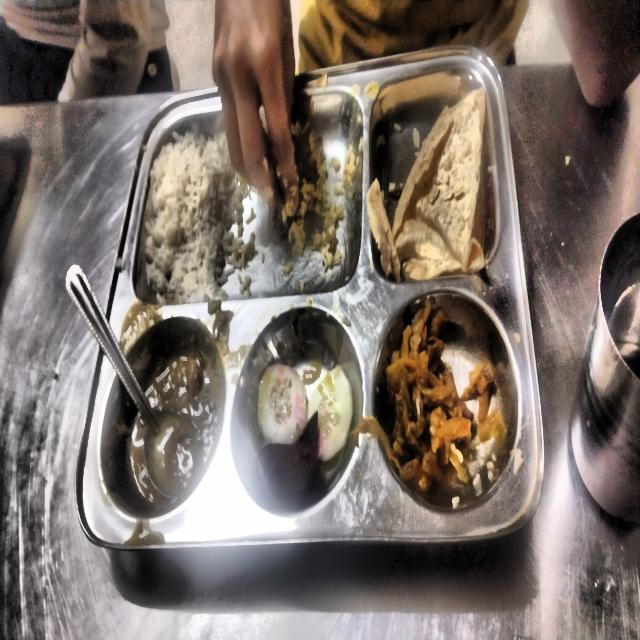No-waste: (392, 88, 485, 279)
Raita: (151, 133, 234, 303)
Rice-with-pulse: (258, 360, 352, 490)
gajar-aloo: (386, 312, 506, 491)
